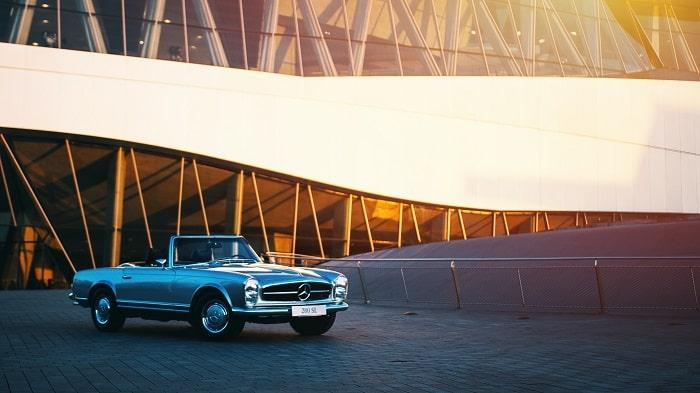car: (67, 240, 349, 335)
